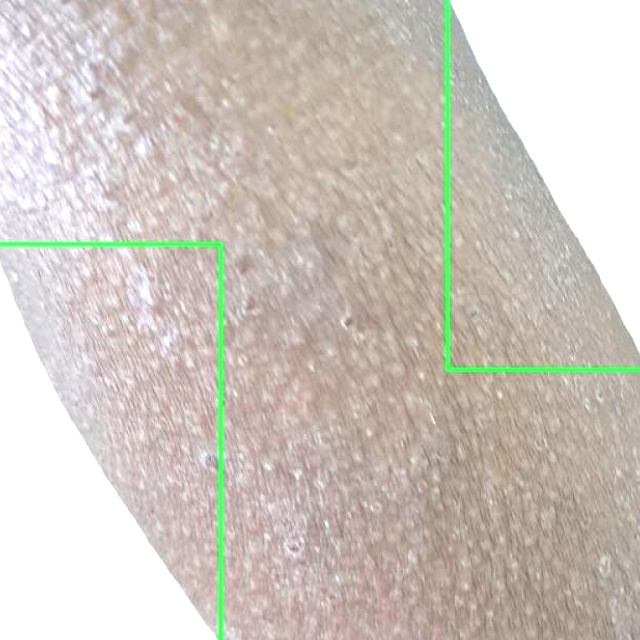Contact Dermatitis: (0, 243, 220, 639), (447, 0, 639, 369)
